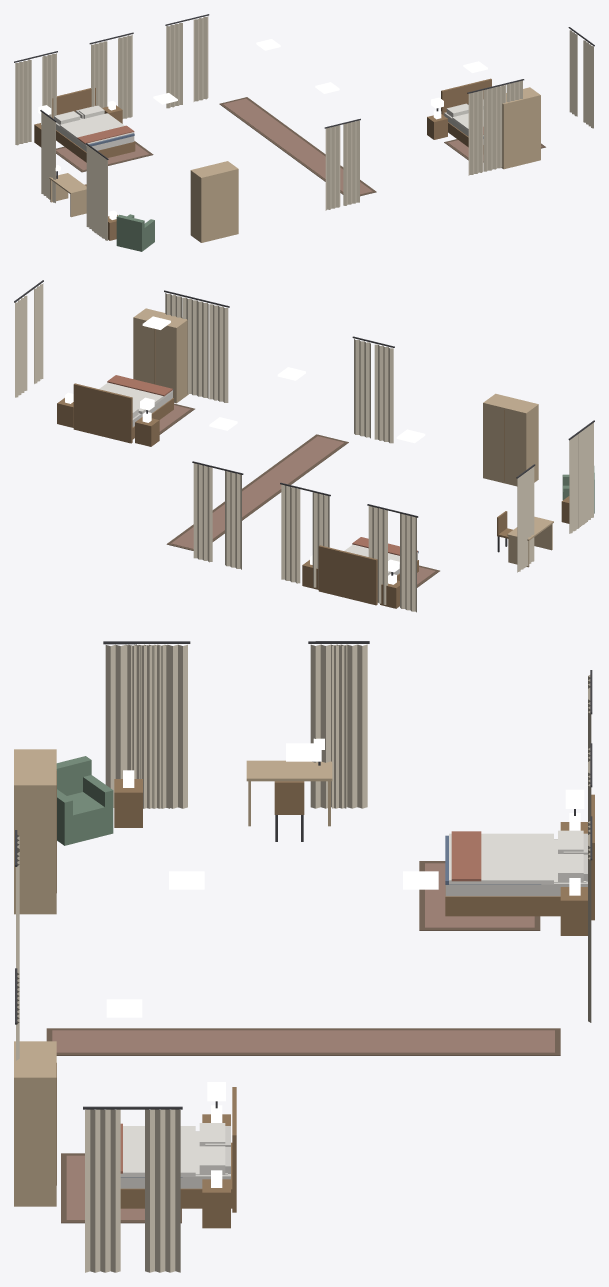
File: fine-s2.glb
The picture shows the model from 3 angles, top to bottom: view 1: azimuth 30°, elevation 25°; view 2: azimuth 150°, elevation 25°; view 3: azimuth 270°, elevation 25°; orthographic projection. The views are drawn at different scales.
Parts seen in each view (by area): view 1: soft-s2, dresser.003, dresser.002, bed-frame.003, lounge-chair.001, bed-frame.002, writing-desk.001, nightstand.004; view 2: soft-s2, dresser.003, dresser.002, bed-frame.002, bed-frame.003, writing-desk.001, nightstand.004, nightstand.005, nightstand.006; view 3: soft-s2, dresser.002, dresser.003, bed-frame.003, lounge-chair.001, bed-frame.002, writing-desk.001, nightstand.005, side-table.001, nightstand.007, cafe-chair.001.
Part boxes in pixels (x1,y1,x2,y2): soft-s2: (14,14,594,240); dresser.003: (190,161,238,242); dresser.002: (501,87,540,169); bed-frame.003: (52,87,135,162); lounge-chair.001: (116,214,154,251); bed-frame.002: (441,78,491,154); writing-desk.001: (49,165,86,217); nightstand.004: (427,109,447,139); soft-s2: (14,280,594,612); dresser.003: (483,393,538,486); dresser.002: (133,308,188,403); bed-frame.002: (73,383,173,443); bed-frame.003: (318,545,418,605); writing-desk.001: (507,516,553,567); nightstand.004: (135,412,159,446); nightstand.005: (57,392,73,427); nightstand.006: (380,574,399,608); soft-s2: (15,641,592,1272); dresser.002: (14,1041,56,1206); dresser.003: (14,749,56,914); bed-frame.003: (445,794,594,920); lounge-chair.001: (56,756,113,845); bed-frame.002: (120,1087,236,1212); writing-desk.001: (246,738,332,826); nightstand.005: (202,1170,230,1228); side-table.001: (114,770,142,827); nightstand.007: (560,878,587,935); cafe-chair.001: (274,781,304,841).
Size of the model in its own units: 15.51 by 2.61 by 8.15.
